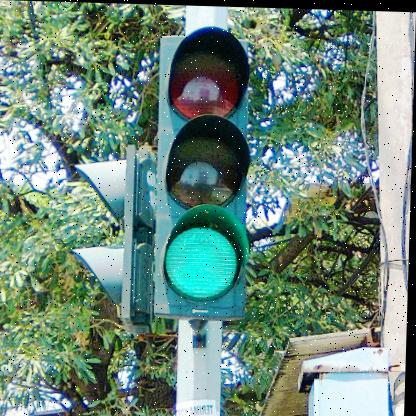Traffic Light -Green-: (154, 33, 256, 319)
